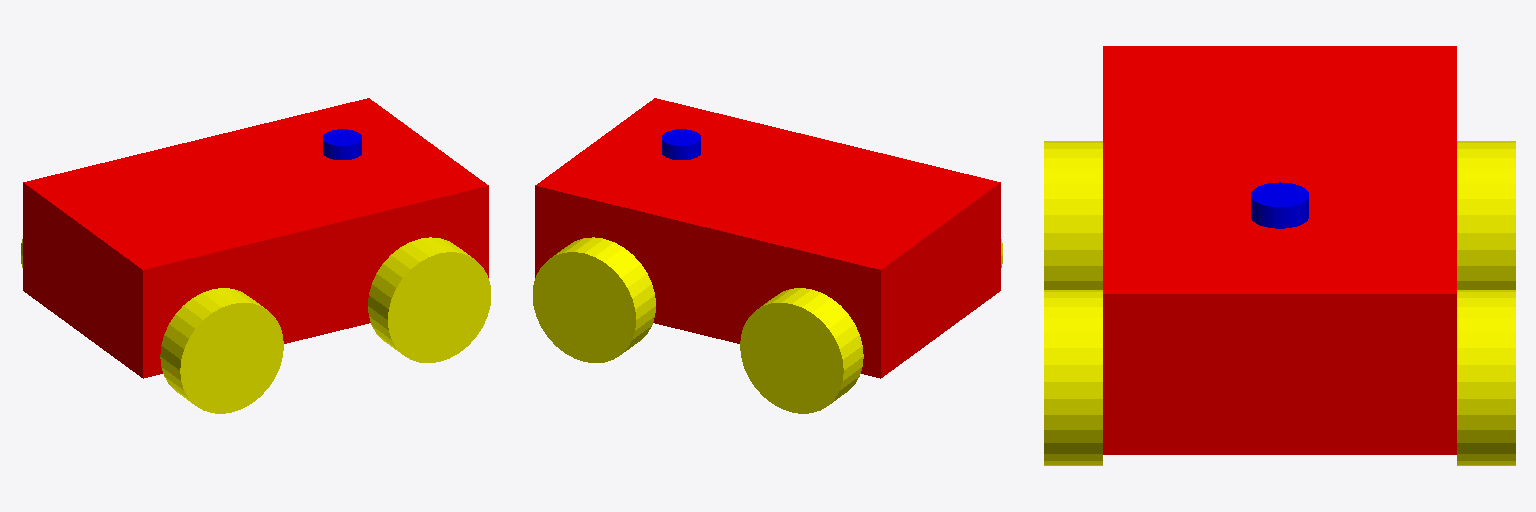
robot.urdf — ros_dd:
<?xml version="1.0"?>
<robot name="ros_dd">
    <link name="body_link">
        <!-- 시각화 형상 -->
        <visual>
            <origin xyz="0 0 0" rpy="0 0 0"/>
            <geometry>
                <box size="1 0.6 0.3"/>
            </geometry>
            <material name="red">
                <color rgba="1 0 0 1"/>
            </material>
        </visual>

        <!-- 물리 충돌 형상 -->
        <collision>
            <origin xyz="0 0 0" rpy="0 0 0"/>
            <geometry>
                <box size="1 0.6 0.3"/>
            </geometry>
        </collision>

        <!-- 질량 및 관성 모멘트 -->
        <inertial>
            <origin xyz="0 0 0" rpy="0 0 0"/>
            <mass value="1.0"/>
            <inertia ixx="0.0375" ixy="0" ixz="0" iyy="0.0908" iyz="0" izz="0.1133"/>
        </inertial>
    </link>

    <joint name="wheel1_joint" type="continuous">
    <parent link="body_link"/>
    <child link="wheel1_link"/>
    <origin xyz="0.3 0.35 -0.1" rpy="0 0 0"/>
    <axis xyz="0 1 0"/>
    <limit effort="10.0" velocity="10.0"/>
</joint>

<link name="wheel1_link">
    <!-- 시각화 형상 -->
    <visual>
        <origin xyz="0 0 0" rpy="1.5707963 0 0"/>
        <geometry>
            <cylinder radius="0.15" length="0.1"/>
        </geometry>
        <material name="yellow">
            <color rgba="1 1 0 1"/>
        </material>
    </visual>

    <!-- 물리 충돌 형상 (visual과 동일한 형상 및 각도) -->
    <collision>
        <origin xyz="0 0 0" rpy="1.5707963 0 0"/>
        <geometry>
            <cylinder radius="0.15" length="0.1"/>
        </geometry>
    </collision>

    <!-- 질량 및 실린더 관성 모멘트 (질량 0.2kg 기준) -->
    <inertial>
        <origin xyz="0 0 0" rpy="1.5707963 0 0"/>
        <mass value="0.2"/>
        <!-- 원기둥 회전축 관성: ixx/izz = m/12*(3r^2 + h^2), iyy = 1/2*m*r^2 -->
        <inertia ixx="0.00129" ixy="0" ixz="0" iyy="0.00225" iyz="0" izz="0.00129"/>
    </inertial>
</link>

<joint name="wheel2_joint" type="continuous">
    <parent link="body_link"/>
    <child link="wheel2_link"/>
    <origin xyz="0.3 -0.35 -0.1" rpy="0 0 0"/>
    <axis xyz="0 1 0"/>
    <limit effort="10.0" velocity="10.0"/>
</joint>

<link name="wheel2_link">
    <!-- 시각화 형상 -->
    <visual>
        <origin xyz="0 0 0" rpy="1.5707963 0 0"/>
        <geometry>
            <cylinder radius="0.15" length="0.1"/>
        </geometry>
        <material name="yellow">
            <color rgba="1 1 0 1"/>
        </material>
    </visual>

    <!-- 물리 충돌 형상 -->
    <collision>
        <origin xyz="0 0 0" rpy="1.5707963 0 0"/>
        <geometry>
            <cylinder radius="0.15" length="0.1"/>
        </geometry>
    </collision>

    <!-- 질량 및 실린더 관성 모멘트 (질량 0.2kg 기준) -->
    <inertial>
        <origin xyz="0 0 0" rpy="1.5707963 0 0"/>
        <mass value="0.2"/>
        <inertia ixx="0.00129" ixy="0" ixz="0" iyy="0.00225" iyz="0" izz="0.00129"/>
    </inertial>
</link>

<joint name="wheel3_joint" type="continuous">
    <parent link="body_link"/>
    <child link="wheel3_link"/>
    <origin xyz="-0.3 0.35 -0.1" rpy="0 0 0"/>
    <axis xyz="0 1 0"/>
    <limit effort="10.0" velocity="10.0"/>
</joint>

<link name="wheel3_link">
    <!-- 시각화 형상 -->
    <visual>
        <origin xyz="0 0 0" rpy="1.5707963 0 0"/>
        <geometry>
            <cylinder radius="0.15" length="0.1"/>
        </geometry>
        <material name="yellow">
            <color rgba="1 1 0 1"/>
        </material>
    </visual>

    <!-- 물리 충돌 형상 -->
    <collision>
        <origin xyz="0 0 0" rpy="1.5707963 0 0"/>
        <geometry>
            <cylinder radius="0.15" length="0.1"/>
        </geometry>
    </collision>

    <!-- 질량 및 실린더 관성 모멘트 (질량 0.2kg 기준) -->
    <inertial>
        <origin xyz="0 0 0" rpy="1.5707963 0 0"/>
        <mass value="0.2"/>
        <inertia ixx="0.00129" ixy="0" ixz="0" iyy="0.00225" iyz="0" izz="0.00129"/>
    </inertial>
</link>

<joint name="wheel4_joint" type="continuous">
    <parent link="body_link"/>
    <child link="wheel4_link"/>
    <origin xyz="-0.3 -0.35 -0.1" rpy="0 0 0"/>
    <axis xyz="0 1 0"/>
    <limit effort="10.0" velocity="10.0"/>
</joint>

<link name="wheel4_link">
    <!-- 시각화 형상 -->
    <visual>
        <origin xyz="0 0 0" rpy="1.5707963 0 0"/>
        <geometry>
            <cylinder radius="0.15" length="0.1"/>
        </geometry>
        <material name="yellow">
            <color rgba="1 1 0 1"/>
        </material>
    </visual>

    <!-- 물리 충돌 형상 -->
    <collision>
        <origin xyz="0 0 0" rpy="1.5707963 0 0"/>
        <geometry>
            <cylinder radius="0.15" length="0.1"/>
        </geometry>
    </collision>

    <!-- 질량 및 실린더 관성 모멘트 (질량 0.2kg 기준) -->
    <inertial>
        <origin xyz="0 0 0" rpy="1.5707963 0 0"/>
        <mass value="0.2"/>
        <inertia ixx="0.00129" ixy="0" ixz="0" iyy="0.00225" iyz="0" izz="0.00129"/>
    </inertial>
</link>

<joint name="laser_joint" type="fixed">
    <parent link="body_link"/>
    <child link="laser_link"/>
    <origin
        xyz="0.25 0 0.20"
        rpy="0 0 0"/>
</joint>
<link name="laser_link">
    <visual>
        <geometry>
            <cylinder
                radius="0.05"
                length="0.04"/>
        </geometry>
        <material name="blue">
            <color rgba="0 0 1 1"/>
        </material>
    </visual>
</link>
</robot>

--- Render facts (derived) ---
Views: 3 orthographic renders of the robot side by side, from view 1: azimuth 30°, elevation 25°; view 2: azimuth 150°, elevation 25°; view 3: azimuth 270°, elevation 25°.
Model ros_dd with 6 links and 5 joints (4 continuous, 1 fixed), rooted at body_link, posed every joint at zero.
Visible links, largest first — view 1: body_link, wheel4_link, wheel2_link, laser_link; view 2: body_link, wheel3_link, wheel1_link, laser_link; view 3: body_link, wheel1_link, wheel2_link, wheel3_link, wheel4_link, laser_link.
Boxes of the visible links, x1,y1,x2,y2 form: body_link: (23, 98, 488, 378); wheel4_link: (160, 288, 283, 413); wheel2_link: (368, 237, 490, 362); laser_link: (323, 129, 361, 159); body_link: (535, 98, 1000, 378); wheel3_link: (740, 288, 863, 413); wheel1_link: (533, 237, 655, 362); laser_link: (662, 129, 700, 159); body_link: (1103, 46, 1456, 454); wheel1_link: (1457, 290, 1515, 465); wheel2_link: (1044, 290, 1102, 465); wheel3_link: (1457, 141, 1515, 289); wheel4_link: (1044, 141, 1102, 289); laser_link: (1251, 182, 1308, 228).
Bounding box of the posed robot: 1 × 0.8 × 0.47 m (x, y, z).
Geometry: primitives only (box / cylinder / sphere), no mesh files.
